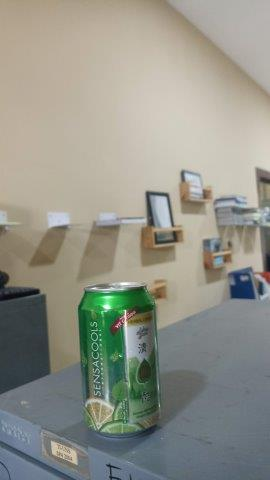kaleng: (78, 285, 161, 441)
